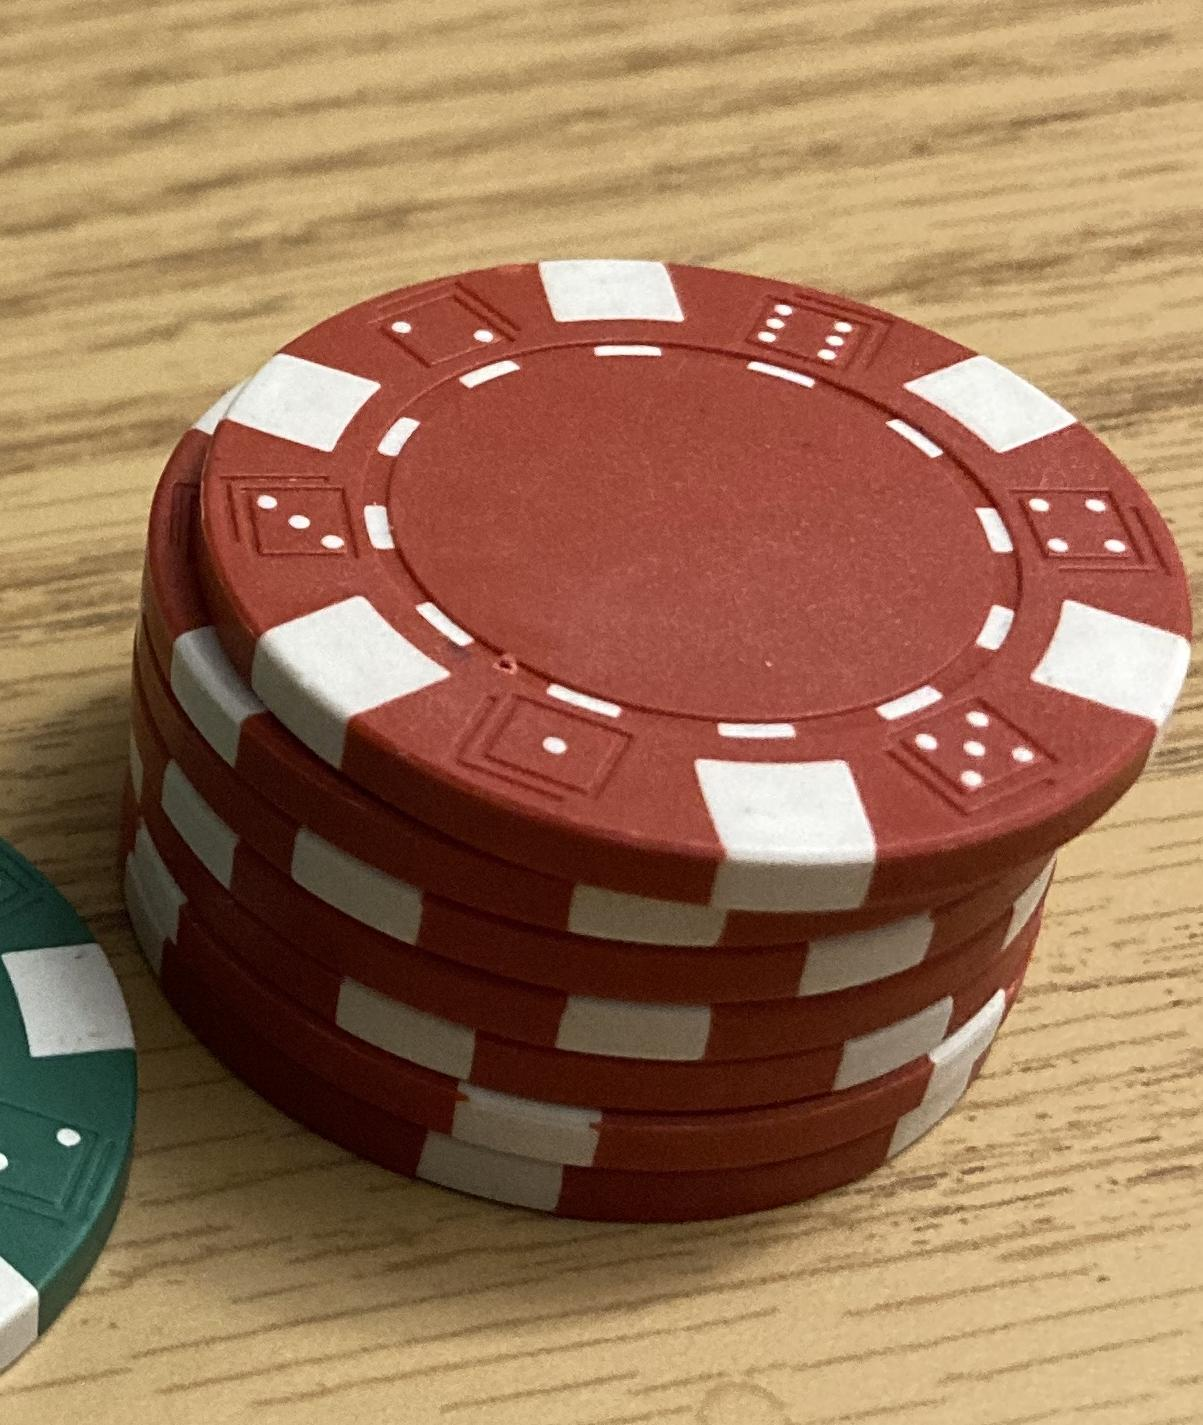Chip: (1, 1, 1203, 1425)
